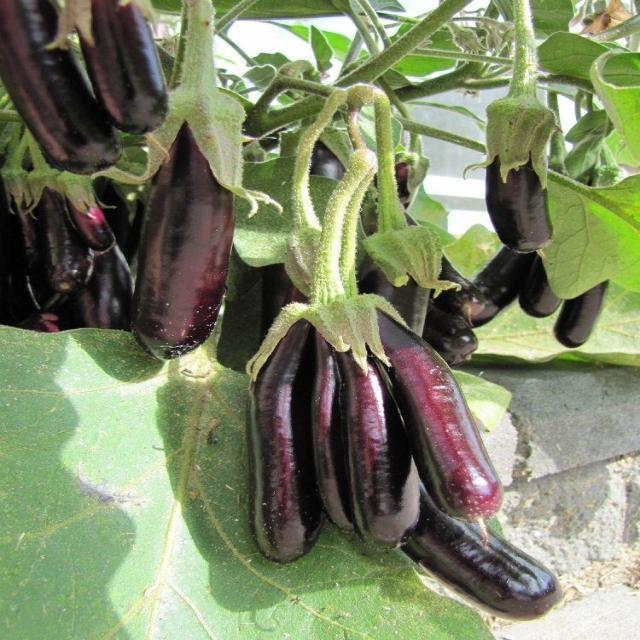eggplant: (129, 0, 243, 359)
